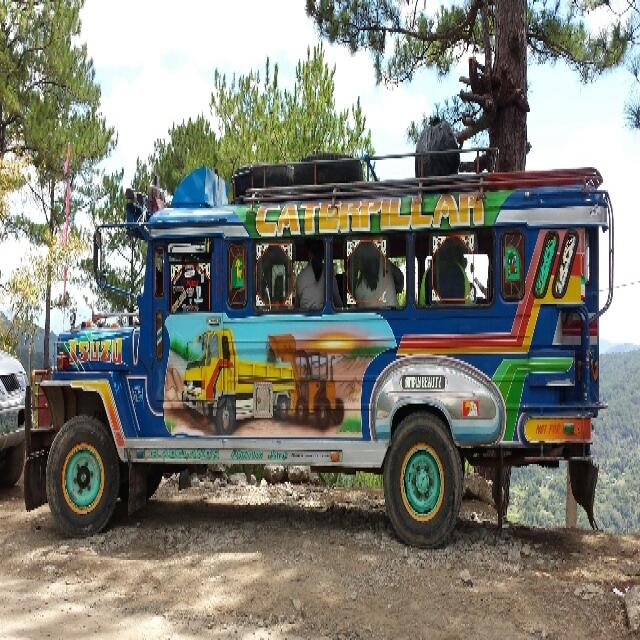Vehicle: (27, 158, 619, 539)
